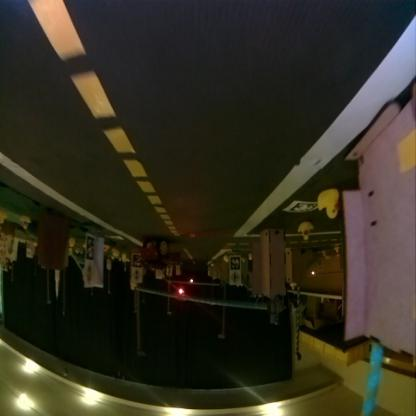Duckie: (318, 189, 338, 219), (298, 223, 312, 241), (20, 217, 29, 228), (103, 245, 109, 253), (247, 253, 253, 261), (241, 256, 247, 264), (223, 256, 228, 263), (334, 246, 338, 254), (121, 253, 125, 260)
Duckiebot: (139, 238, 179, 272)
Intersection sign: (230, 271, 240, 285)
QR code: (285, 202, 317, 212), (86, 238, 93, 260), (230, 258, 240, 270), (132, 256, 140, 268)
Signal sign: (132, 271, 140, 282)
Traffic light: (178, 288, 184, 296), (188, 278, 194, 285)
